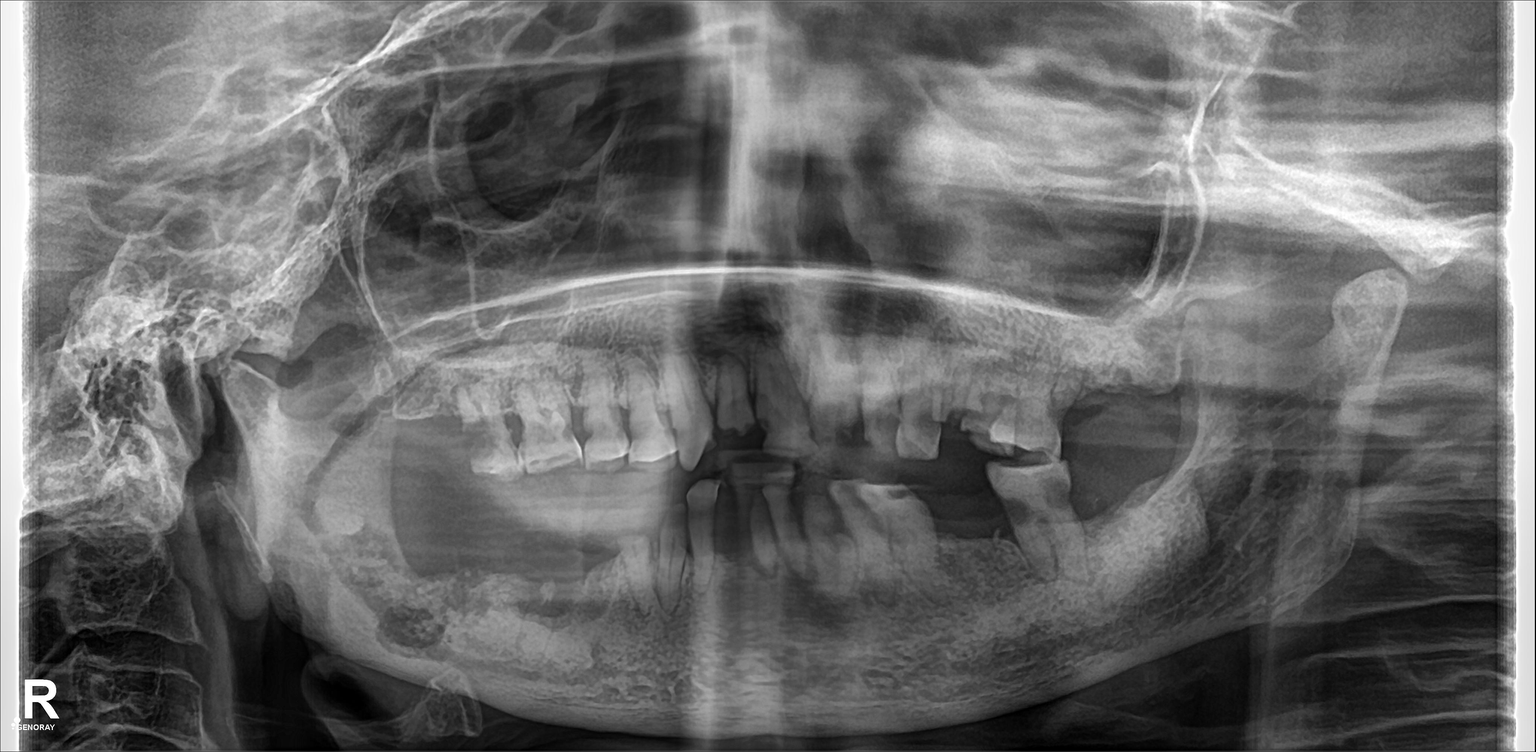Dental Caries: (467, 419, 501, 466), (838, 402, 869, 453), (717, 419, 760, 453), (1047, 478, 1077, 512), (1004, 499, 1038, 527), (918, 410, 945, 444)
Missing Tooth: (400, 376, 469, 486), (458, 512, 517, 615), (939, 477, 991, 588), (397, 508, 456, 605), (520, 512, 568, 630), (566, 517, 617, 626), (1082, 460, 1128, 575), (1129, 454, 1175, 569), (1119, 348, 1172, 444), (1058, 356, 1110, 445)
Retained Root: (989, 350, 1049, 445), (944, 337, 986, 445)
